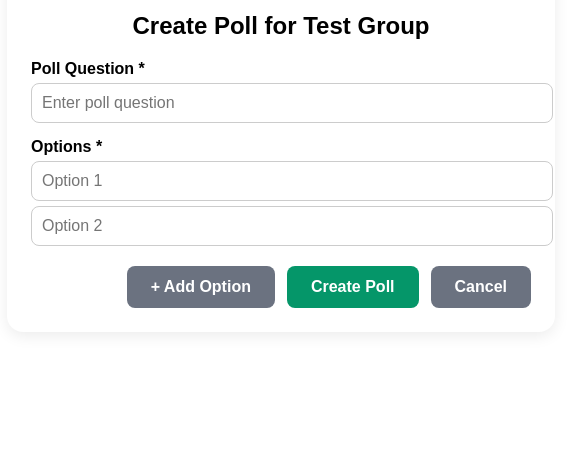
Test case: CreatePollPage › adding and removing options works
Click the button "+ Add Option" at coordinates (201, 287), box [127,266,275,308]
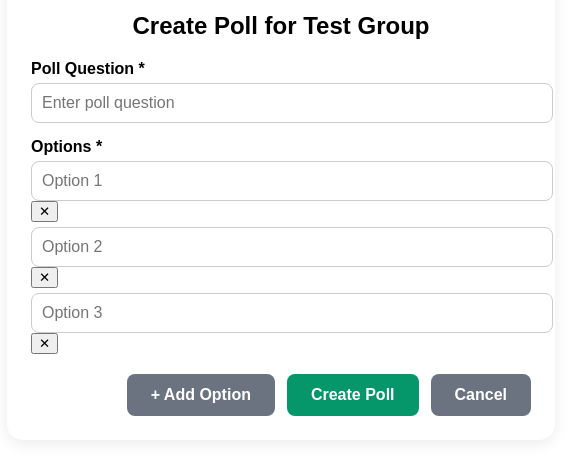
Expected: the number of fields with placeholder "Option 1" is 3, [31,161,553,201]; [31,227,553,267]; [31,293,553,333]
Click the 1st button "✕" at coordinates (45, 211), box [31,201,58,222]
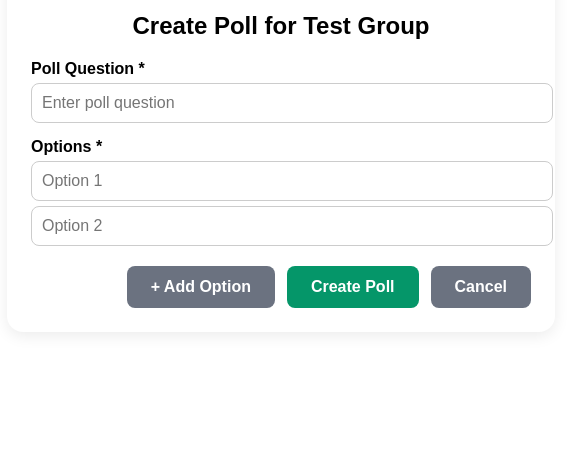
Expected: the number of fields with placeholder "Option 1" is 2, [31,161,553,201]; [31,206,553,246]
